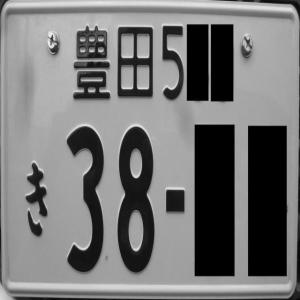Plate: (0, 1, 300, 298)
